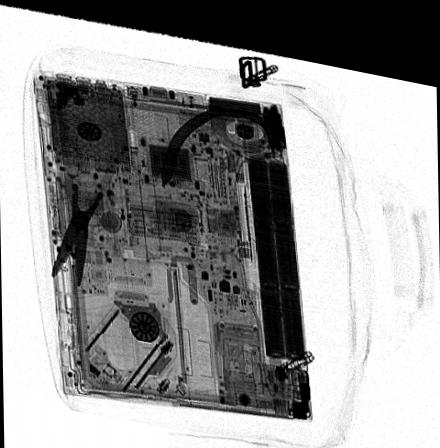Scissors: (46, 176, 109, 289)
